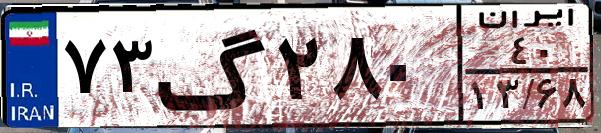0: (385, 28, 445, 110), (537, 27, 568, 80)
1: (470, 70, 495, 125)
2: (270, 28, 330, 110)
3: (110, 28, 156, 98), (495, 70, 520, 125)
4: (508, 27, 537, 80)
6: (535, 70, 560, 125)
7: (57, 26, 110, 100)
8: (330, 28, 385, 110), (560, 70, 590, 125)
گ: (156, 12, 270, 120)
